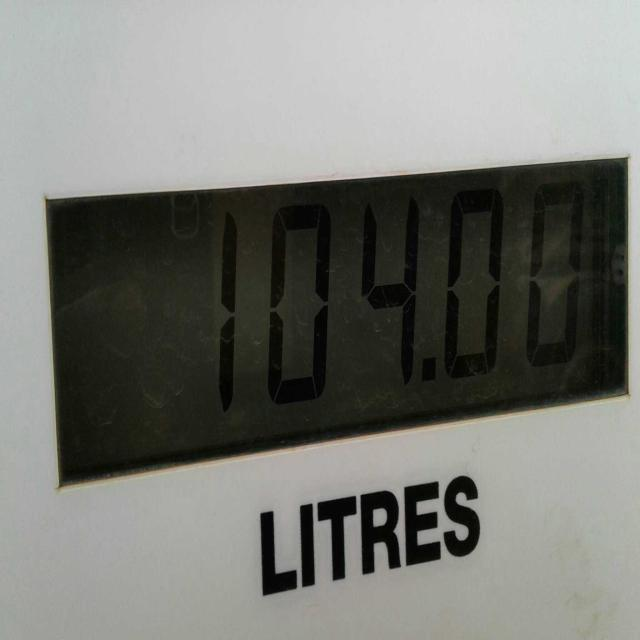.: (349, 194, 425, 396), (206, 209, 254, 423), (414, 347, 442, 397)
0: (266, 204, 341, 410), (443, 180, 509, 394), (521, 176, 585, 382)
